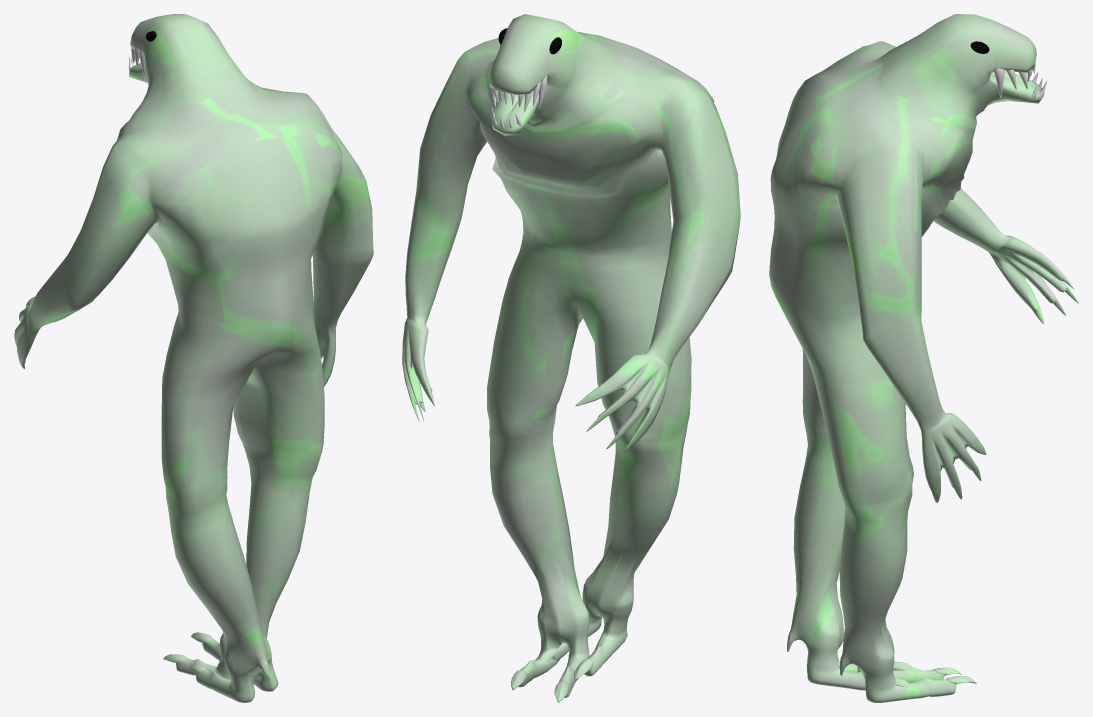
The model's file is Berserkerandar.0087.obj.
3 views of the same model, side by side, from view 1: azimuth 30°, elevation 25°; view 2: azimuth 150°, elevation 25°; view 3: azimuth 270°, elevation 25° (orthographic). The views are drawn at different scales.
Parts seen in each view (by area): view 1: polySurface27; view 2: polySurface27; view 3: polySurface27.
Part boxes in pixels (box(x1,y1,x2,y2)): polySurface27: box(14, 14, 373, 702); polySurface27: box(402, 14, 740, 702); polySurface27: box(769, 14, 1078, 702).
Size of the model in its own units: 11.61 by 24.22 by 10.13.
Materials: 1 (1 with a texture image).
